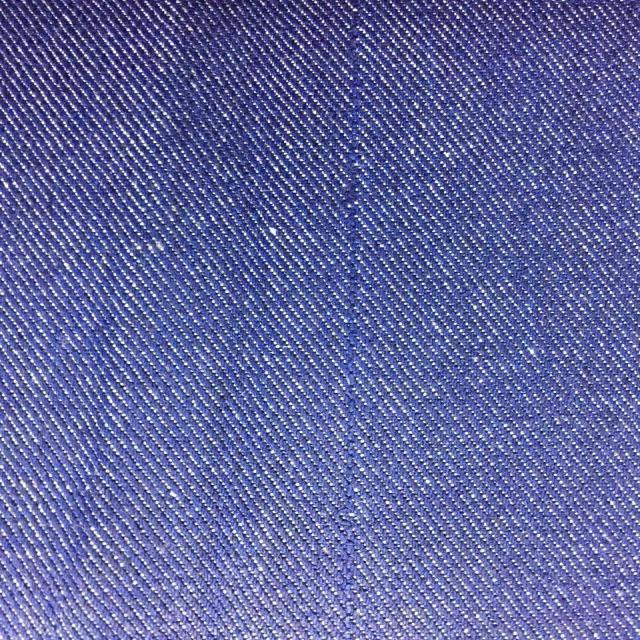Line: (339, 0, 363, 638)
